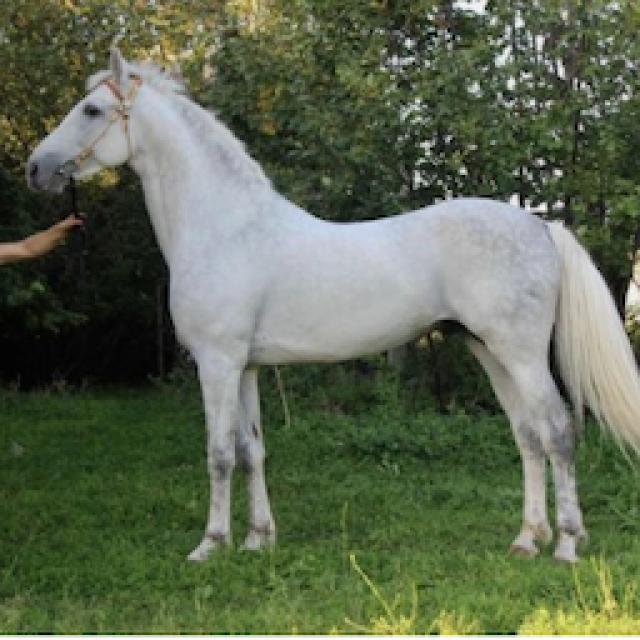Horse: (20, 40, 638, 570)
